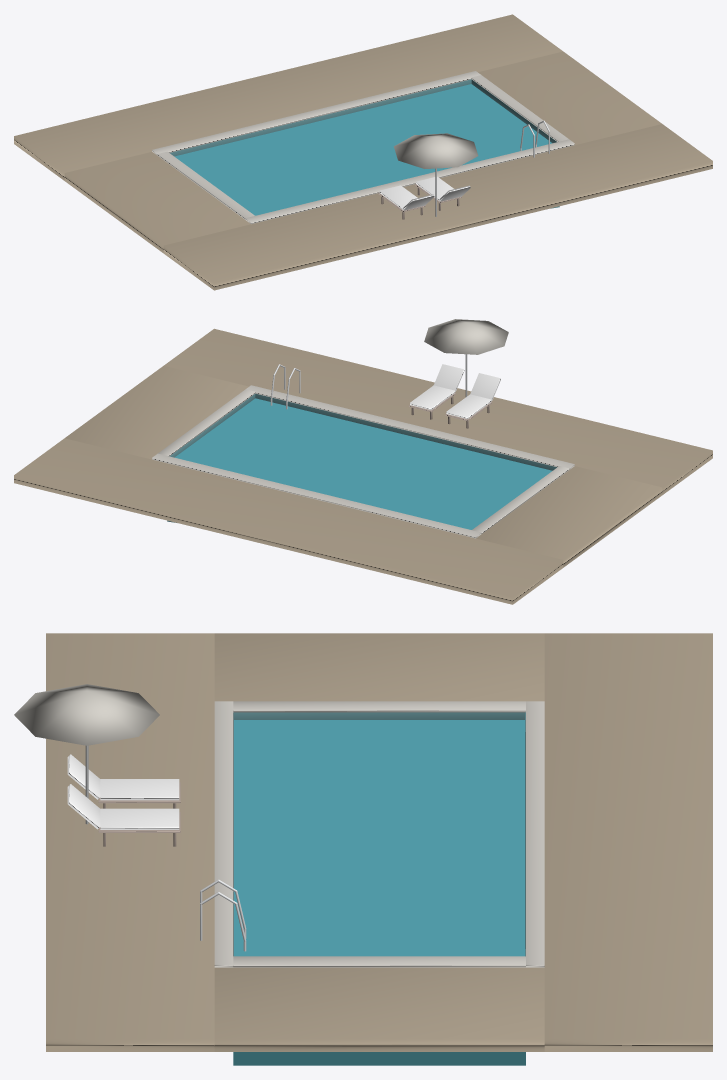
The model's file is swimming-pool.lod0.glb.
3 renders of one model, top to bottom at view 1: azimuth 30°, elevation 25°; view 2: azimuth 150°, elevation 25°; view 3: azimuth 270°, elevation 25°, orthographic. The views are drawn at different scales.
Parts seen in each view (by area): view 1: Object_5, Object_23; view 2: Object_5, Object_23; view 3: Object_5, Object_23, Object_21.
Boxes of the visible parts, box(x1,y1,x2,y2) form: Object_5: box(14, 14, 712, 290); Object_23: box(378, 176, 470, 219); Object_5: box(14, 319, 712, 604); Object_23: box(409, 364, 500, 428); Object_5: box(14, 633, 712, 1065); Object_23: box(67, 754, 180, 846); Object_21: box(200, 879, 246, 951).
Bounding box in the file's own units: 16.4 × 4.5 × 11.95.
Materials: 3 (1 with a texture image).
